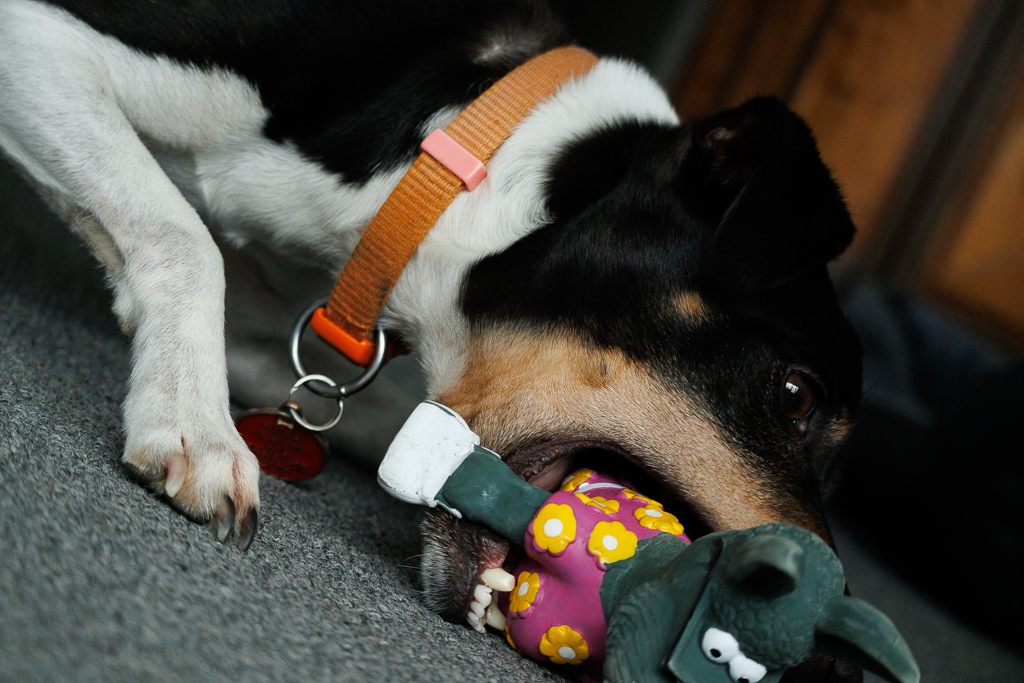Dog: (0, 0, 904, 660)
Humanoid: (364, 373, 929, 683)
